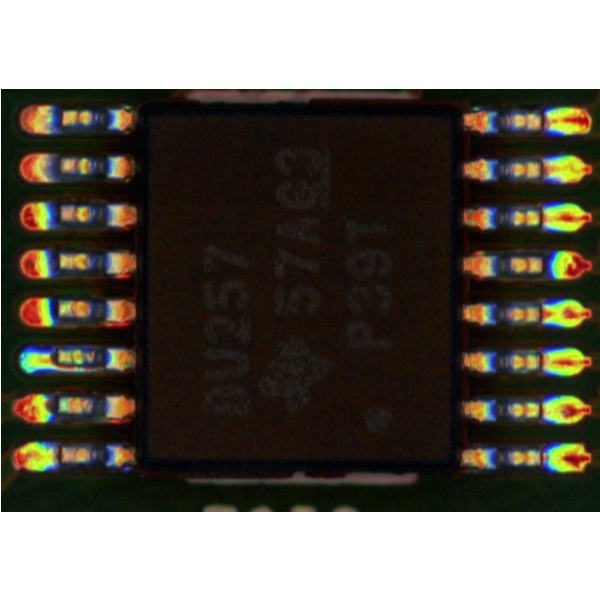Bad_podu: (524, 165, 558, 177), (527, 213, 558, 224), (532, 115, 560, 126), (527, 309, 555, 320), (527, 356, 552, 368)
Bad_qiaojiao: (57, 365, 103, 372)
